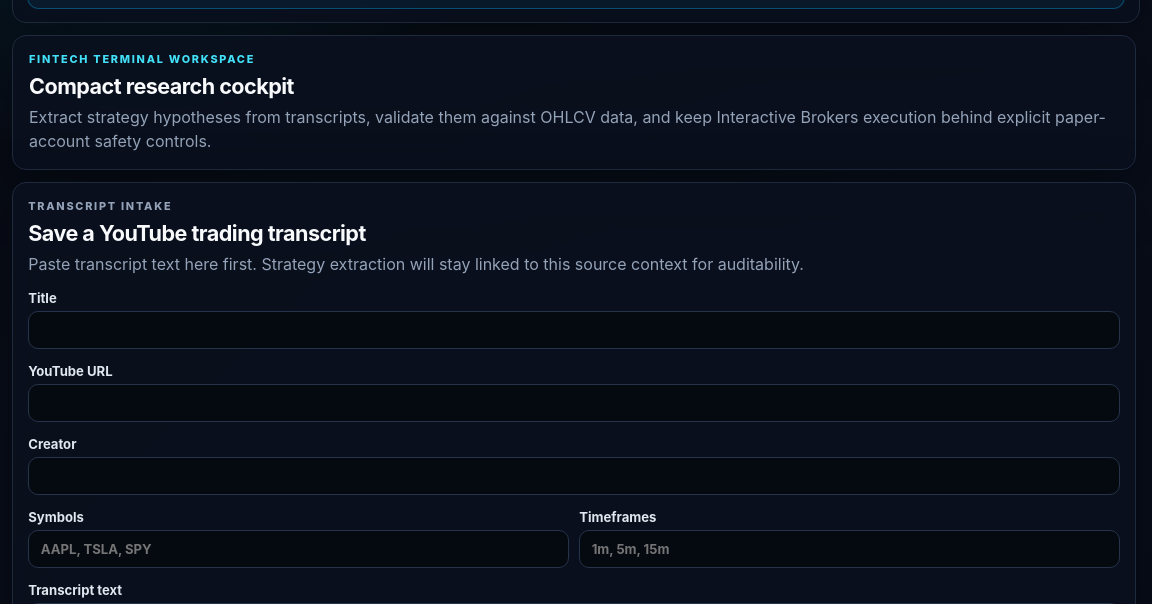
Test: App › submits a pasted transcript to the backend
(page scrolled)
In the field labelled "Title": [574, 330] box x1=28 y1=311 x2=1120 y2=349, type "Opening Range Breakout"
In the field labelled "YouTube URL": [574, 403] box x1=28 y1=384 x2=1120 y2=422, type "https://www.youtube.com/watch?v=example"
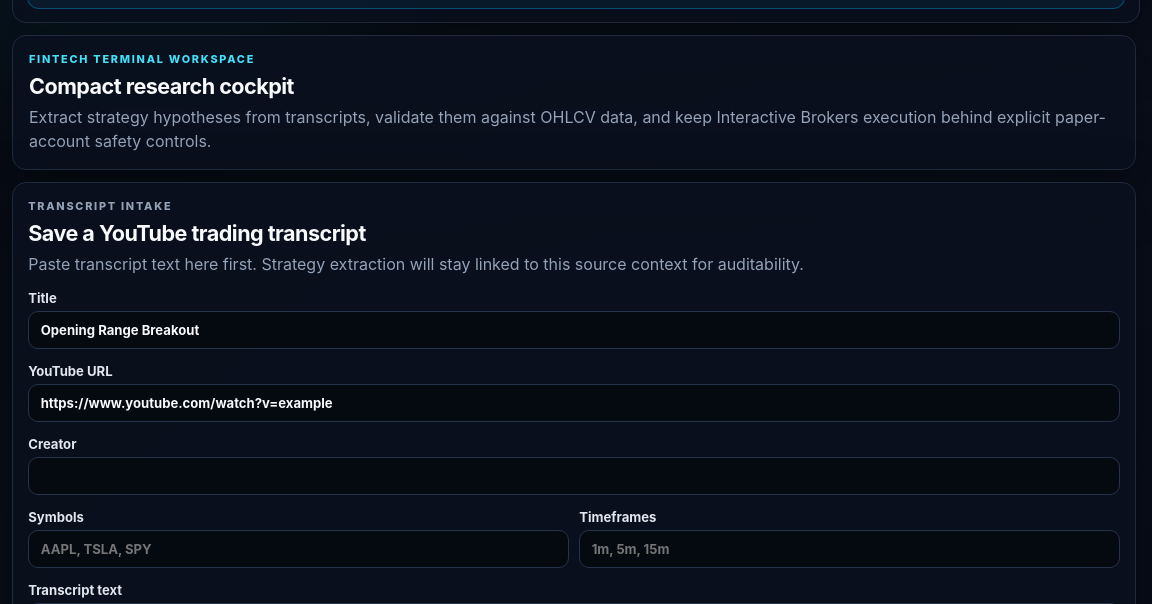
In the field labelled "Creator": [574, 476] box x1=28 y1=457 x2=1120 y2=495, type "Example Trader"
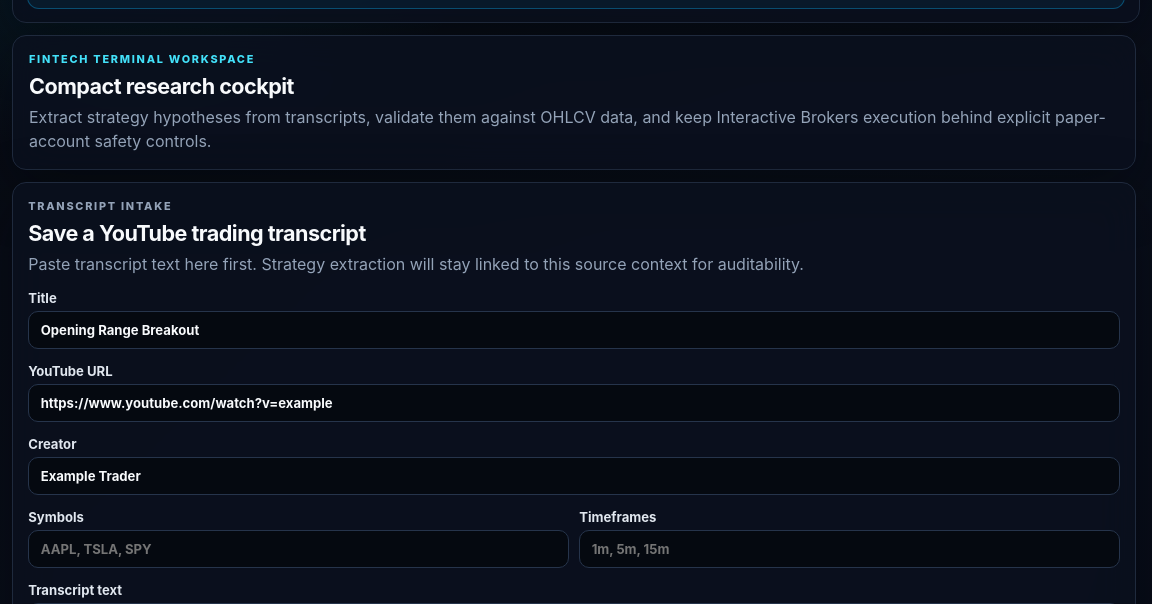
In the field labelled "Symbols": [298, 549] box x1=28 y1=530 x2=569 y2=568, type "AAPL"
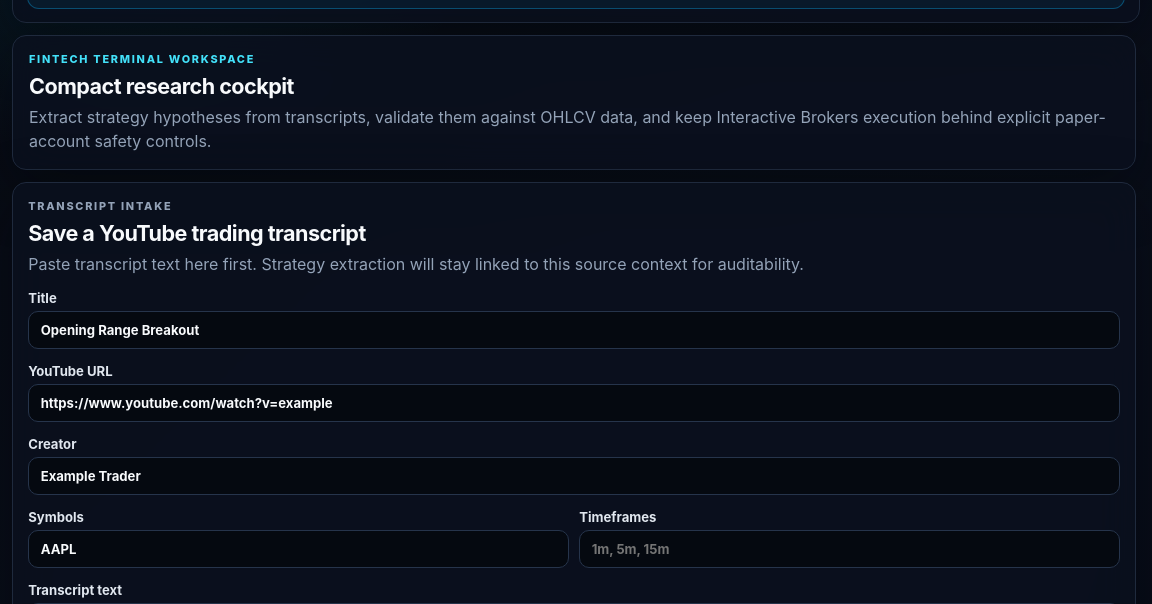
In the field labelled "Timeframes": [850, 549] box x1=579 y1=530 x2=1120 y2=568, type "15m"
(page scrolled)
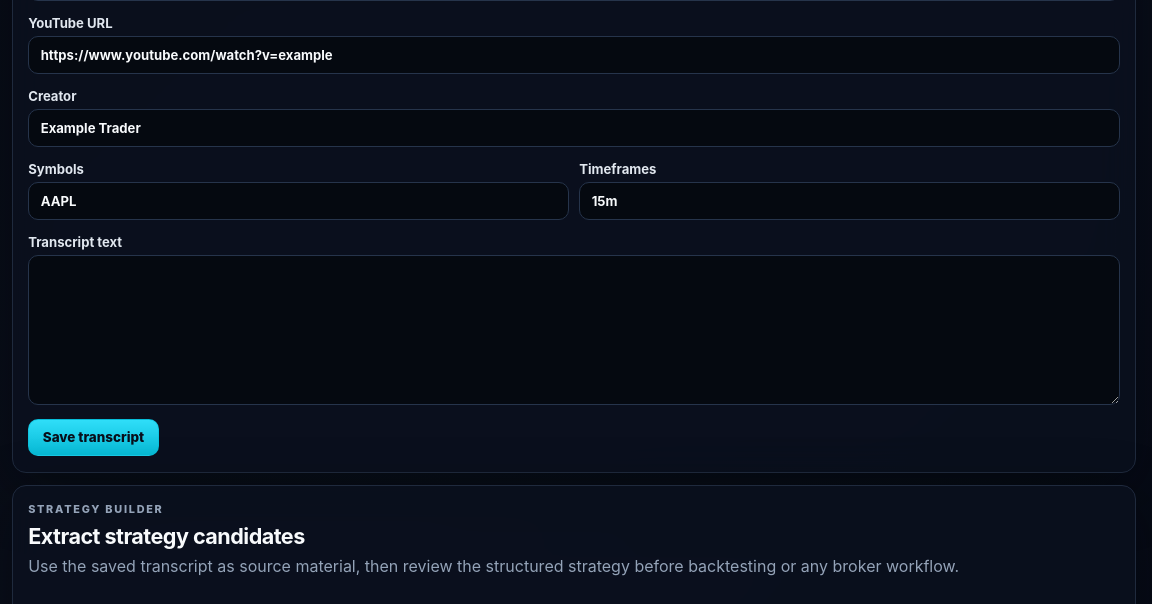
In the text box labelled "Transcript text": [574, 330] box x1=28 y1=255 x2=1120 y2=405, type "Buy the breakout after the first 15 minute range confirms with volume."
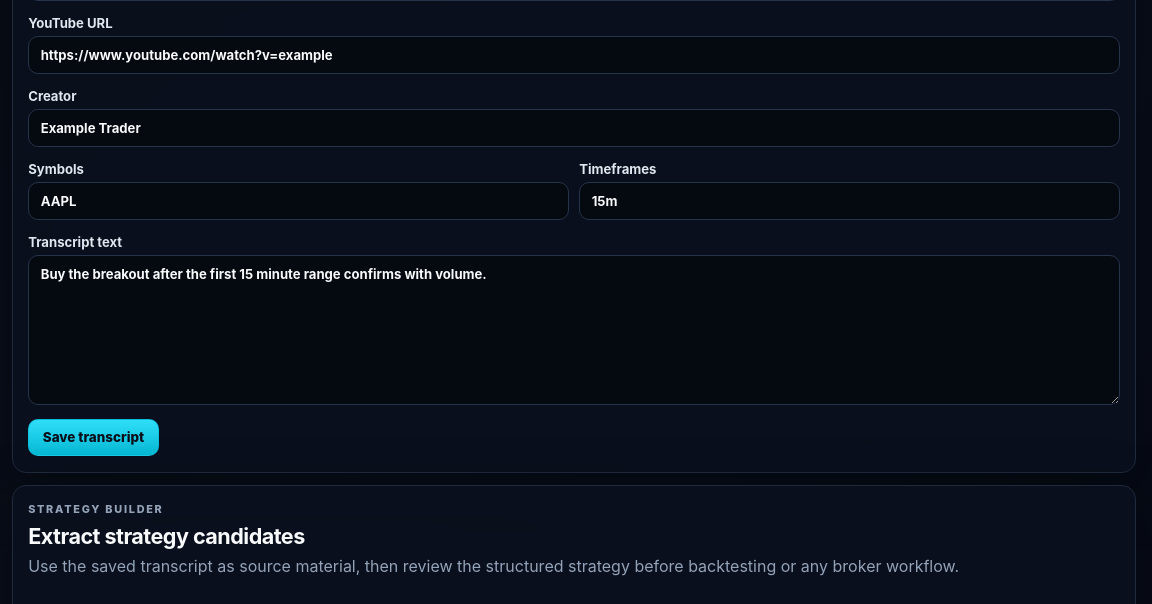
Click the button "Save transcript": [94, 437] box x1=28 y1=418 x2=159 y2=456
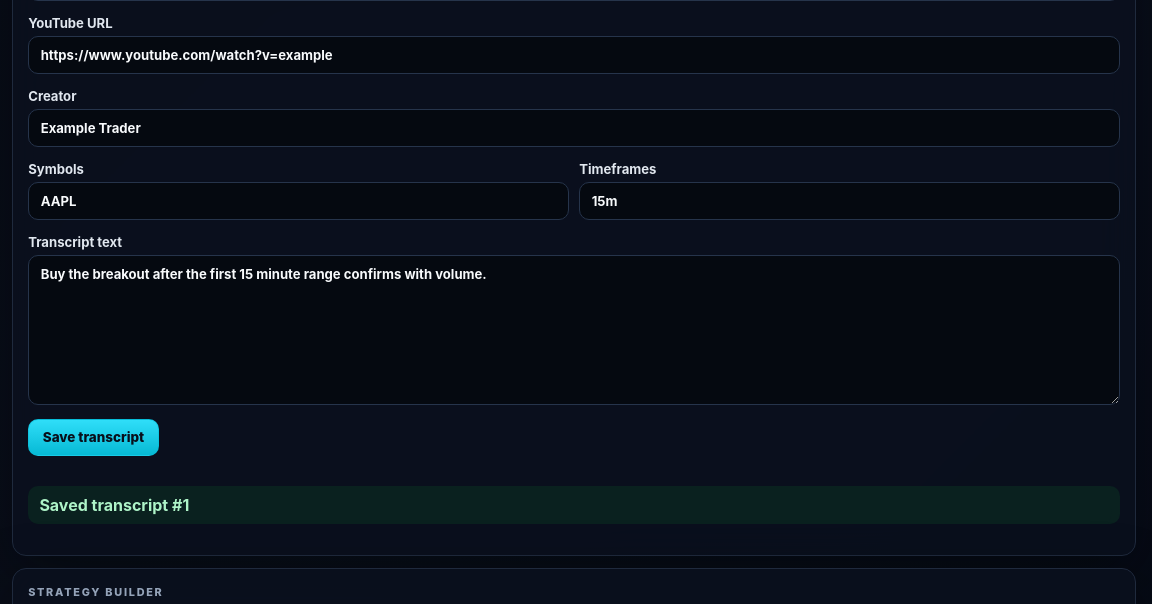
Now the text "Saved transcript #1" is shown, box x1=28 y1=486 x2=1120 y2=524
